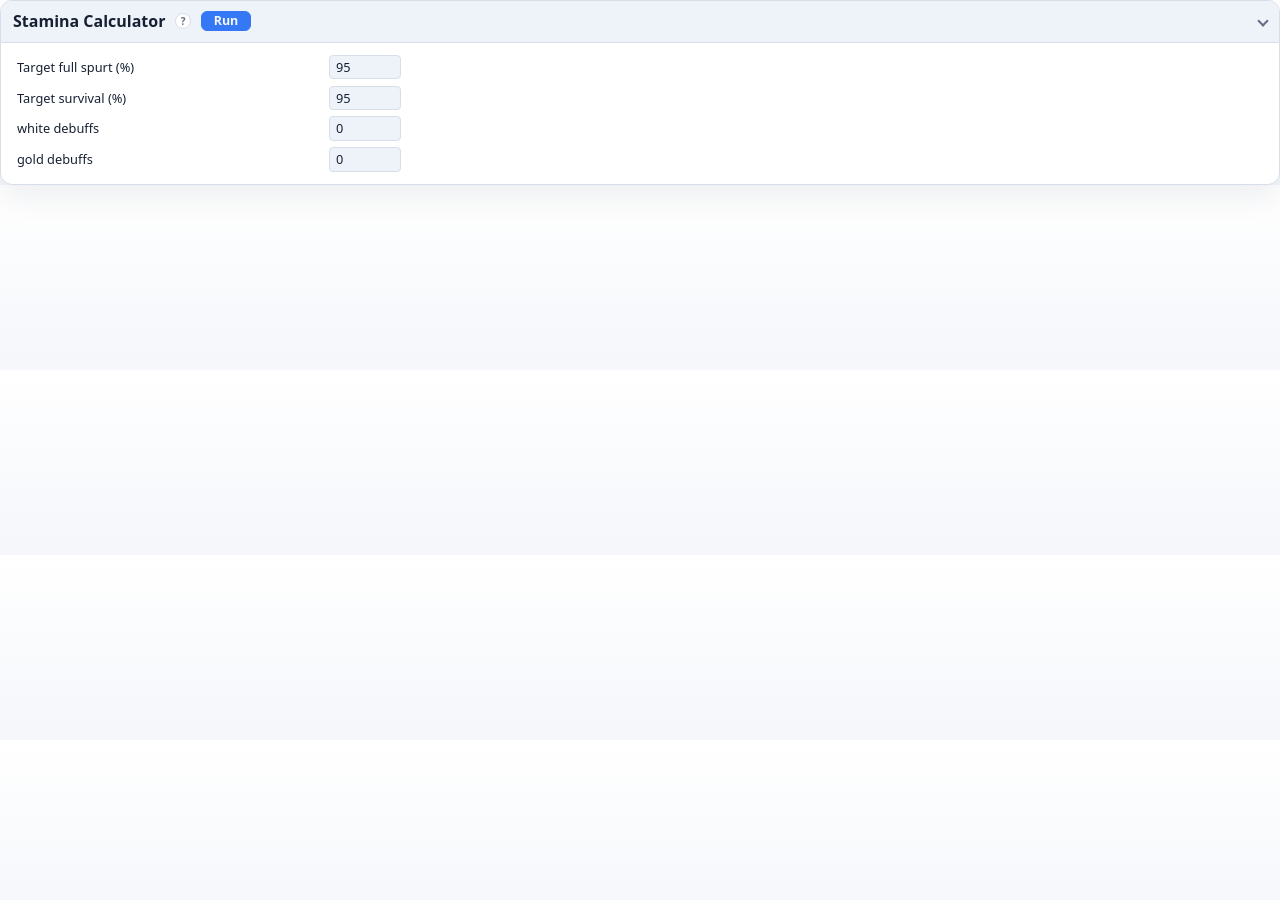
Test: StaminaSpurtTab › Run reports spurt rate and required stamina
Expected: the text "Spurt rate" is not shown
Click the button "Run" at (226, 21), box [201,11,251,31]
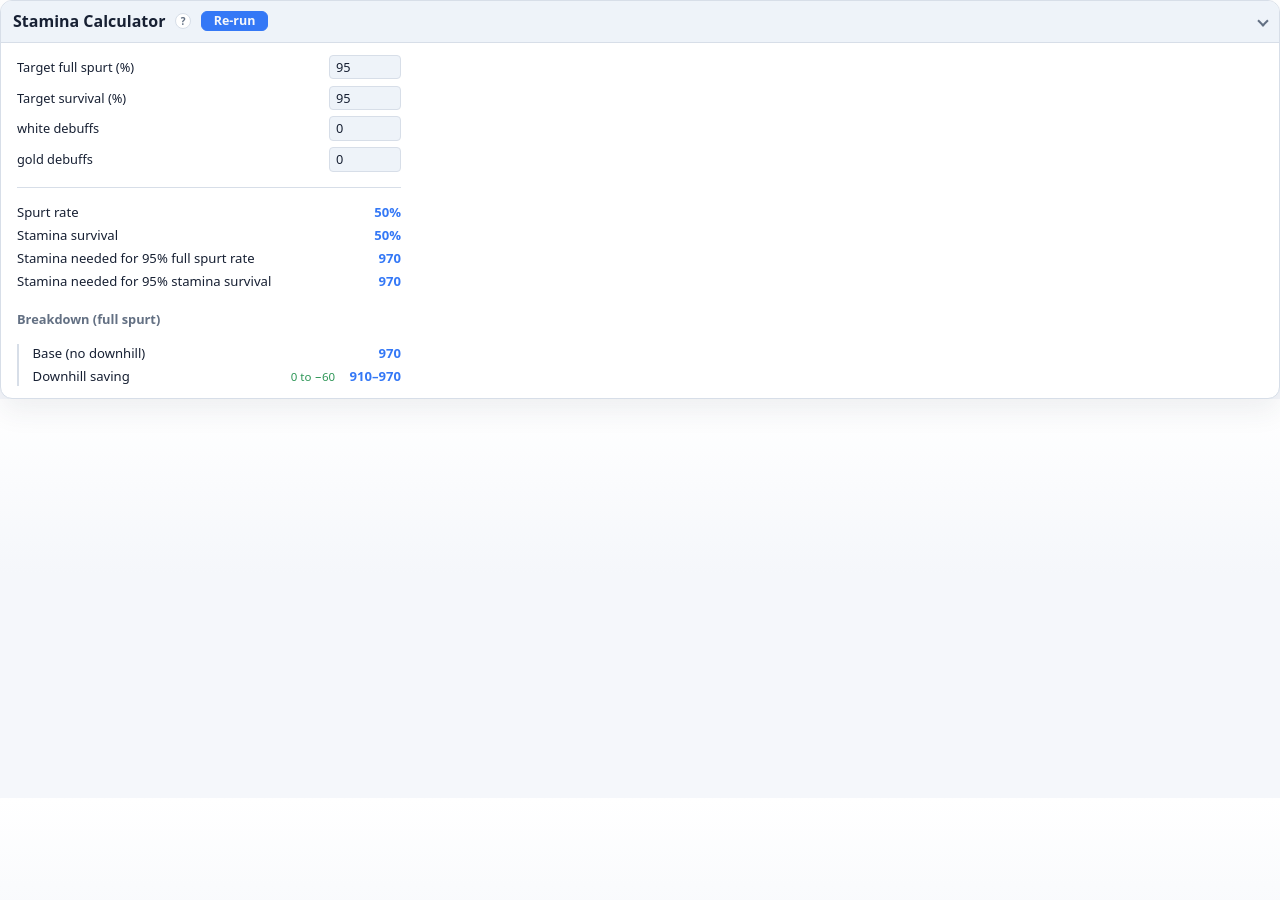
Now the text "Spurt rate" is shown, box [17,203,79,221]
Now the text "Stamina needed for 95% full spurt rate" is shown, box [17,249,255,267]
Now the text "Stamina needed for 95% stamina survival" is shown, box [17,272,271,290]
